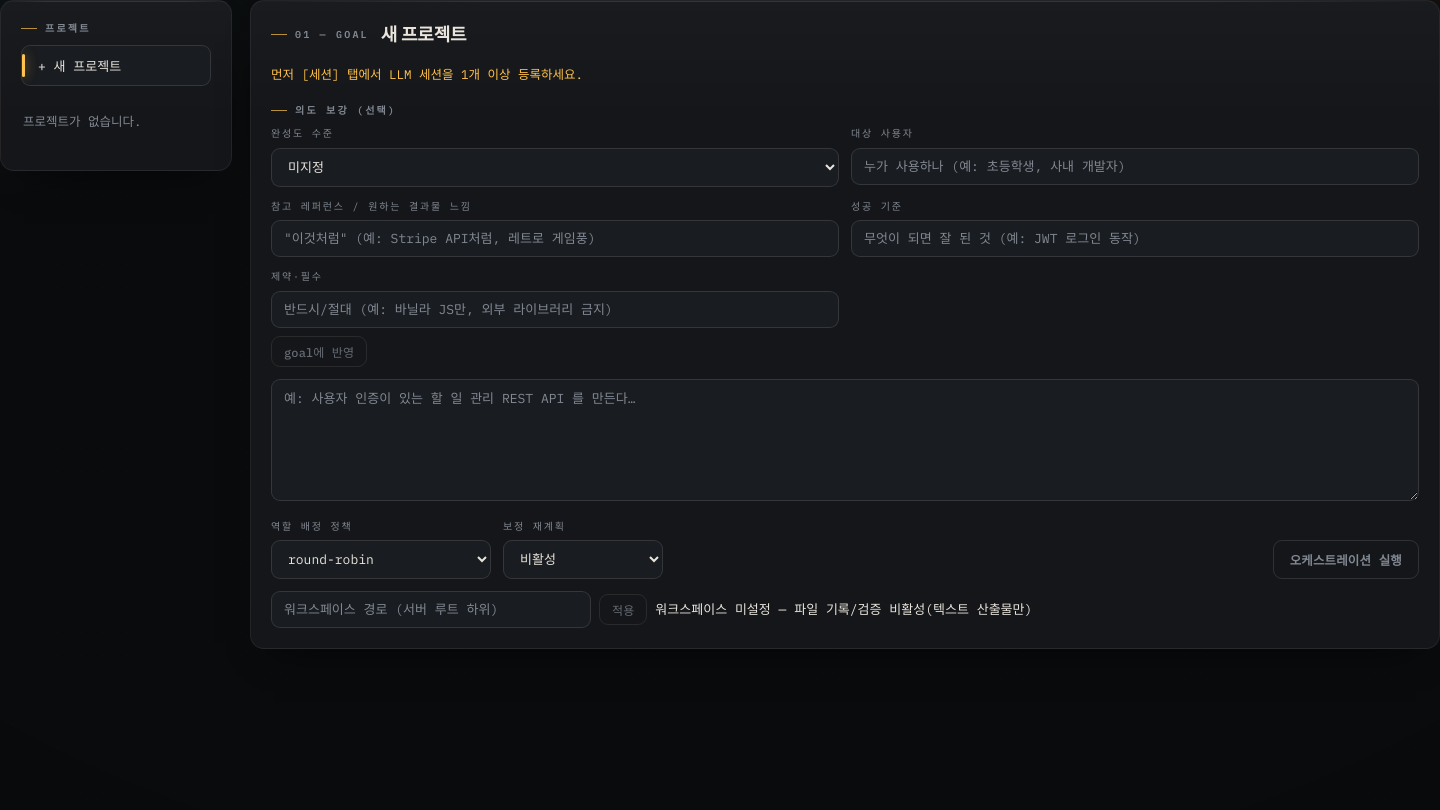
웹 워크스페이스 경로 입력(#197 B4) › 서버 거부(루트 밖 등)는 오류로 표시한다
Type "x" into the field labelled "워크스페이스 경로" at (431, 610), box [271,591,591,628]
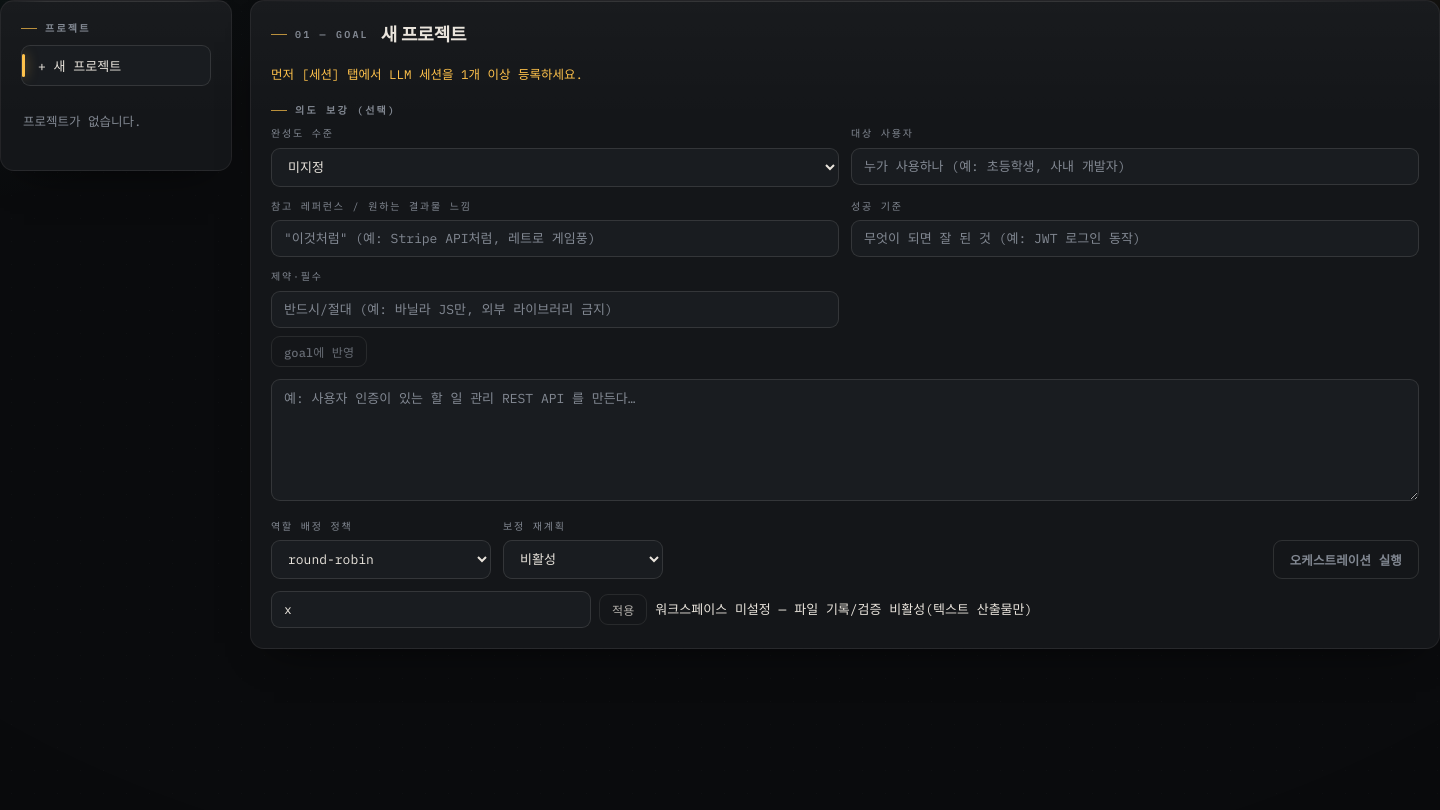
Click the button "적용" at (623, 610), box [599,594,647,625]
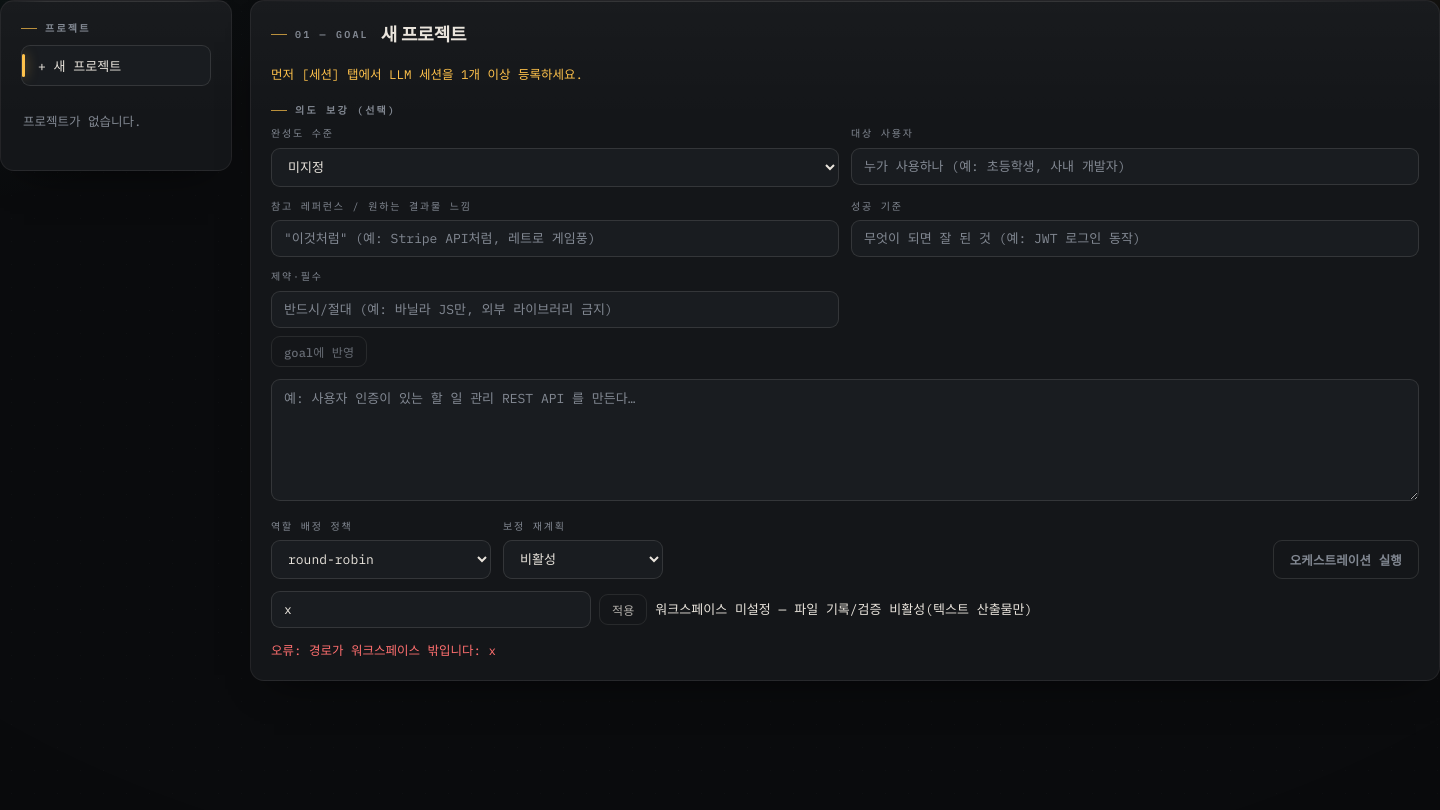
Check: the text "오류: 경로가 워크스페이스 밖입니다: x" is shown, box [271,642,496,658]
